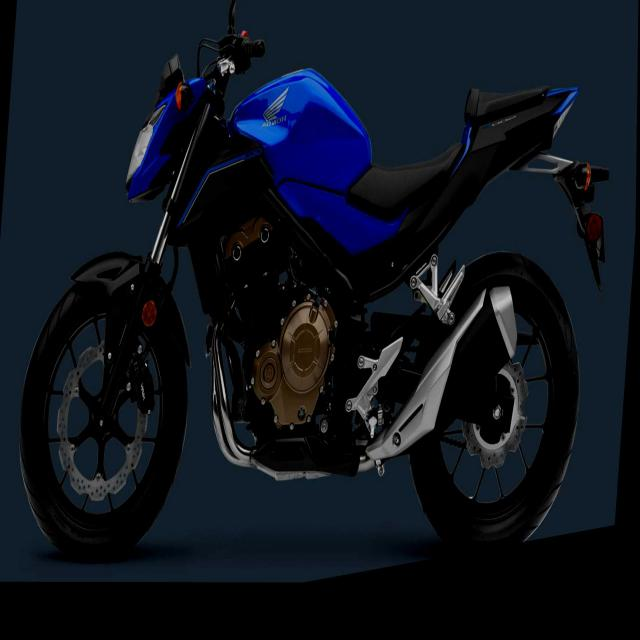CB500F: (11, 0, 624, 637)
